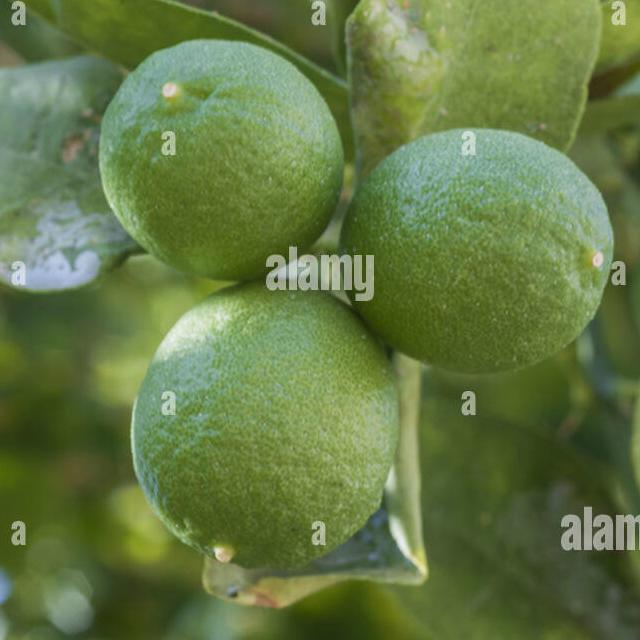lime: (136, 290, 400, 572), (337, 130, 617, 378), (96, 40, 346, 282)
